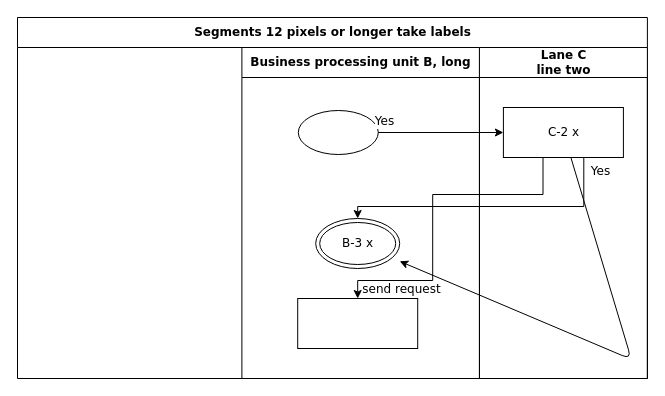
This 665x396 diagram has some shape labels left out. The centre of each missing label's shape, as x and y in pixels:
"A-1 x" belongs at (x=337, y=132).
"B-4 x" belongs at (x=357, y=323).
